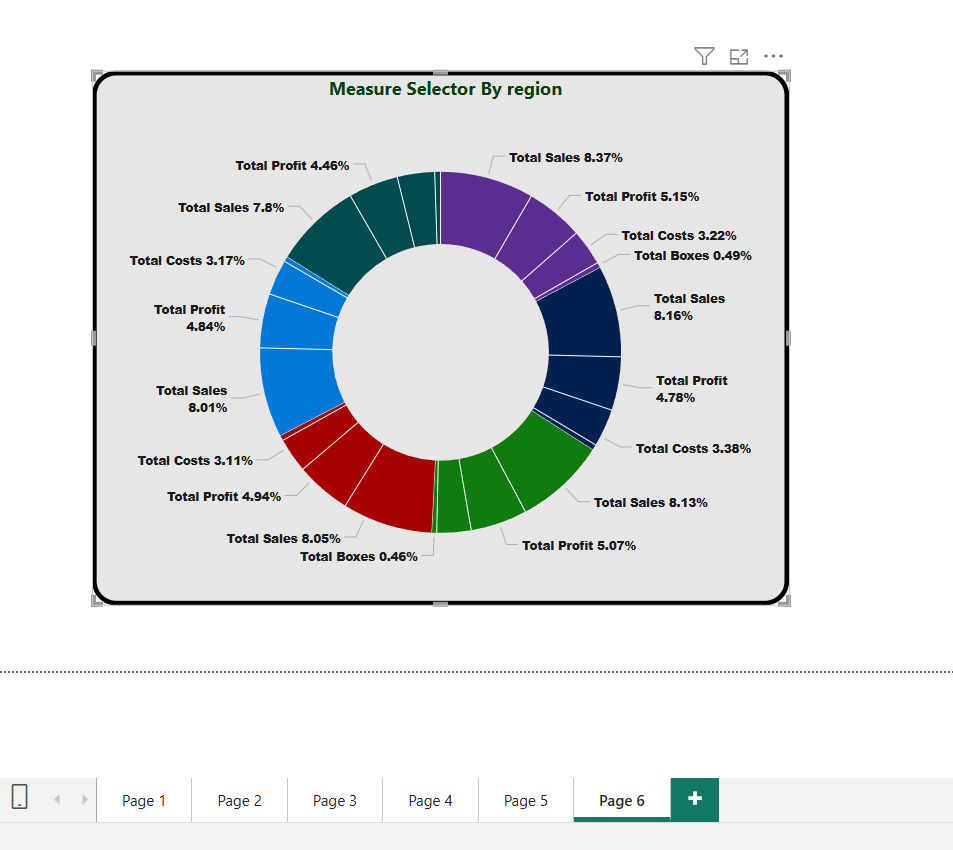

What the dashboard file says about the page in this screenshot:
{"tool":"powerbi","page":{"name":"Page 6","canvas":[1280,720],"ordinal":5},"visuals":[{"type":"donutChart","title":"Measure Selector By region","fields":{"Category":["locations.Geo"],"Y":["Measure.Total Sales","Measure.Total Profit","Measure.Total Costs","Measure.Total Boxes","Measure.Total Shipments"]},"box":[159.6,101.6,718,550.7],"z":0}]}

Visuals, with their boxes on the page's 1280x720 design canvas (x1, y1, x2, y2). These are canvas units, not pixel positions in the 953x850 screenshot, which may show the page scaled, cropped or inside an application window:
"Measure Selector By region" donutChart: 160,102,878,652
